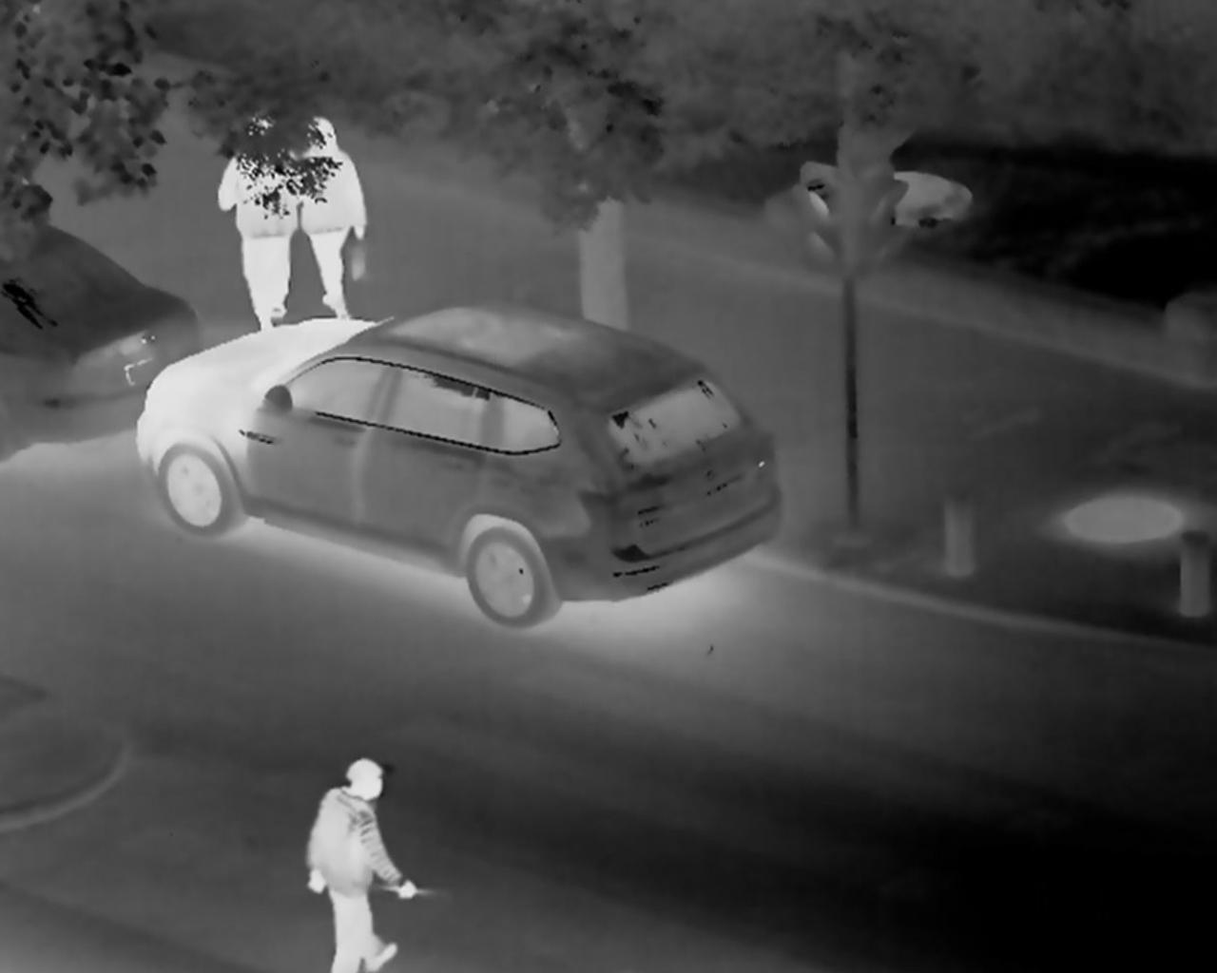person: (302, 753, 444, 973), (224, 123, 301, 335), (302, 121, 382, 307)
